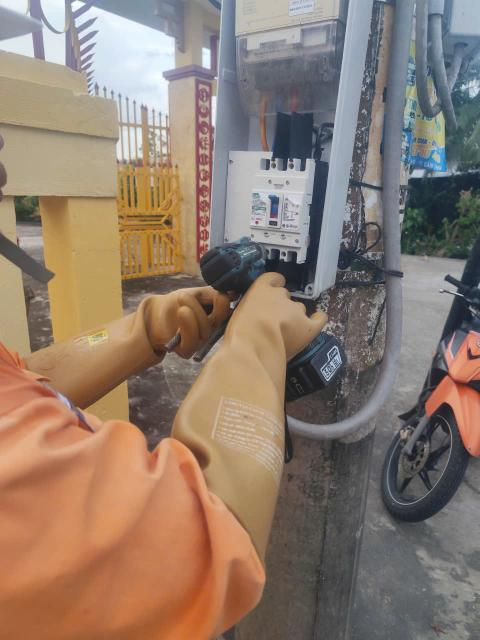gloves: (174, 253, 322, 568), (6, 281, 247, 406)
